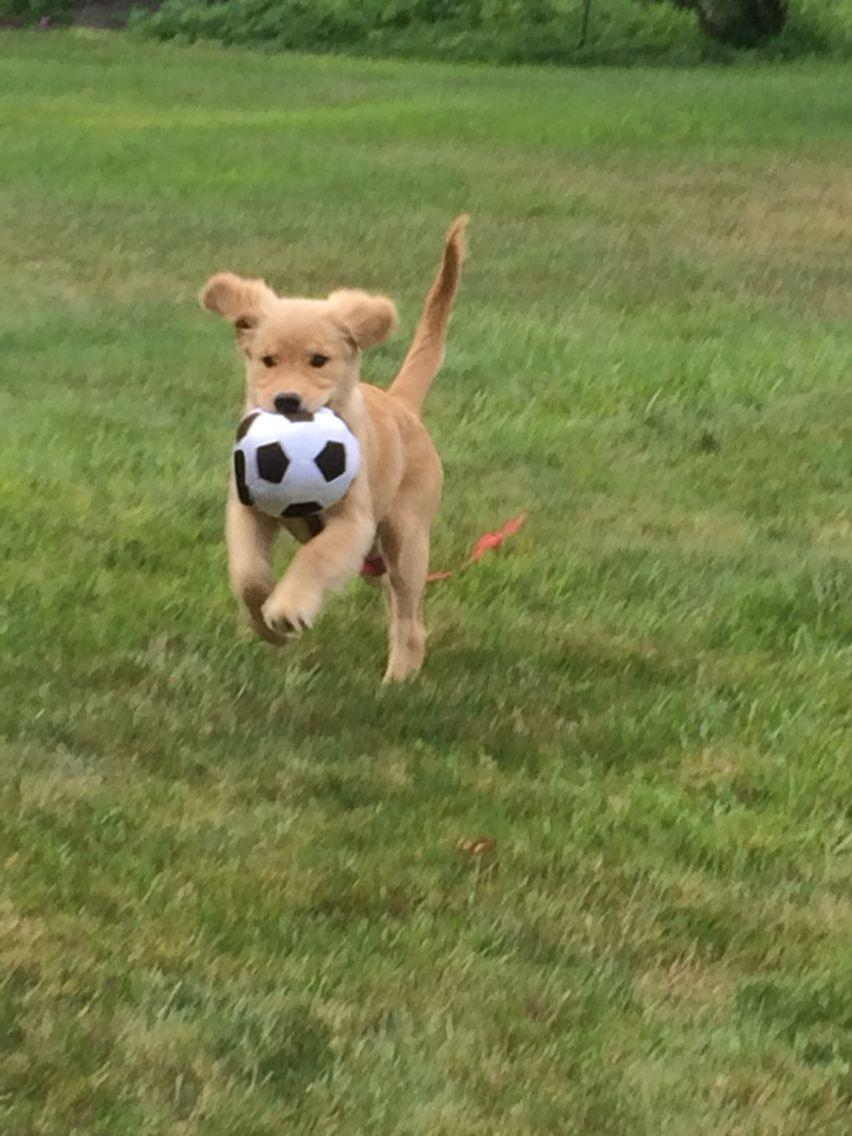puppy-dog: (192, 213, 472, 691)
